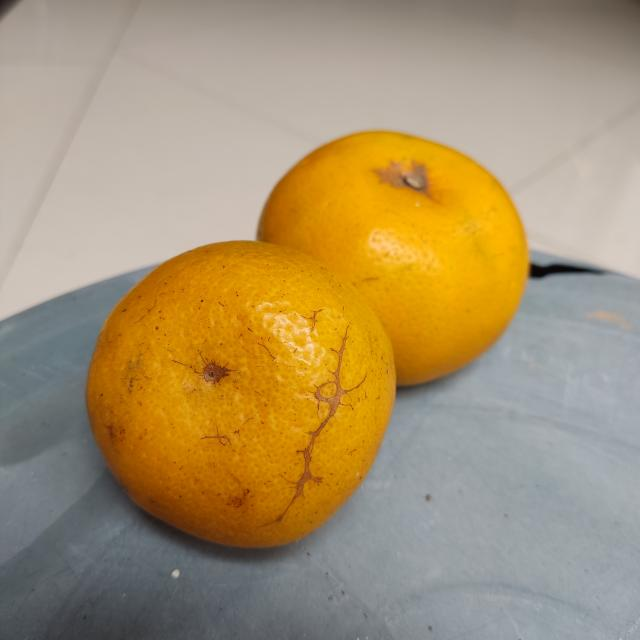orange: (81, 240, 401, 553), (254, 125, 532, 390)
